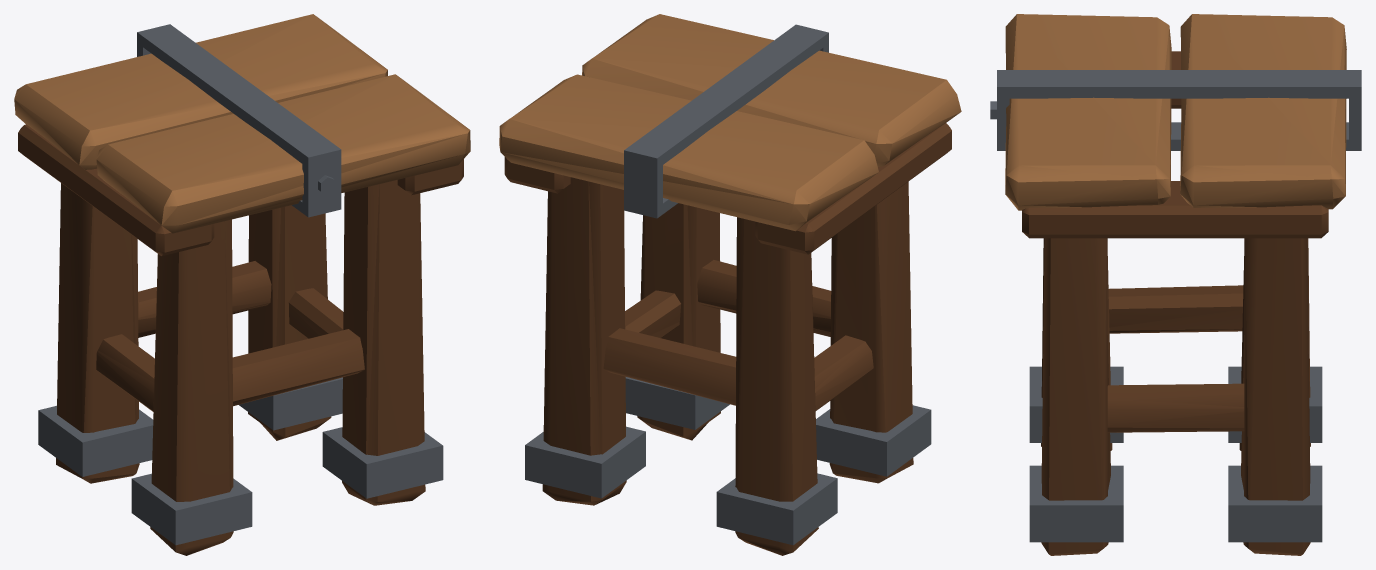
File: smith_stool.glb
3 renders of one model, left to right at view 1: azimuth 30°, elevation 25°; view 2: azimuth 150°, elevation 25°; view 3: azimuth 270°, elevation 25°, orthographic. The views are drawn at different scales.
Parts seen in each view (by area): view 1: seat_plank_1, seat_plank_0, frame_leg_front_right, frame_leg_front_left, frame_leg_back_left, strap_band, frame_leg_back_right, frame_long_rail_front, seat_batten_left, frame_foot_band_front_left, frame_foot_band_front_right, frame_foot_band_back_left (+5 smaller); view 2: seat_plank_0, seat_plank_1, frame_leg_back_right, frame_leg_back_left, frame_leg_front_left, strap_band, frame_leg_front_right, frame_long_rail_back, seat_batten_left, frame_foot_band_back_left, frame_foot_band_back_right, frame_foot_band_front_left (+5 smaller); view 3: seat_plank_0, seat_plank_1, frame_leg_front_right, frame_leg_back_right, strap_band, seat_batten_right, frame_side_rail_right, frame_side_rail_left, frame_foot_band_front_right, frame_foot_band_back_right, frame_foot_band_front_left, frame_foot_band_back_left (+2 smaller).
Boxes of the visible parts, x1,y1,x2,y2 form: seat_plank_1: [96, 74, 470, 233]; seat_plank_0: [14, 14, 387, 169]; frame_leg_front_right: [342, 180, 425, 505]; frame_leg_front_left: [150, 219, 233, 555]; frame_leg_back_left: [56, 183, 139, 483]; strap_band: [137, 24, 341, 217]; frame_leg_back_right: [248, 205, 331, 440]; frame_long_rail_front: [232, 329, 364, 406]; seat_batten_left: [18, 124, 214, 256]; frame_foot_band_front_left: [131, 473, 252, 545]; frame_foot_band_front_right: [322, 427, 443, 498]; frame_foot_band_back_left: [38, 405, 153, 476]; seat_plank_0: [499, 74, 878, 231]; seat_plank_1: [582, 14, 961, 166]; frame_leg_back_right: [542, 177, 626, 505]; frame_leg_back_left: [735, 217, 818, 555]; frame_leg_front_left: [829, 181, 913, 483]; strap_band: [624, 24, 828, 218]; frame_leg_front_right: [637, 203, 720, 440]; frame_long_rail_back: [603, 328, 736, 405]; seat_batten_left: [755, 123, 951, 254]; frame_foot_band_back_left: [716, 473, 837, 545]; frame_foot_band_back_right: [525, 426, 645, 498]; frame_foot_band_front_left: [816, 405, 931, 476]; seat_plank_0: [1180, 14, 1346, 209]; seat_plank_1: [1005, 14, 1171, 210]; frame_leg_front_right: [1041, 238, 1110, 555]; frame_leg_back_right: [1241, 238, 1310, 555]; strap_band: [990, 70, 1361, 150]; seat_batten_right: [1022, 181, 1328, 238]; frame_side_rail_right: [1107, 383, 1244, 432]; frame_side_rail_left: [1108, 285, 1243, 333]; frame_foot_band_front_right: [1029, 465, 1123, 542]; frame_foot_band_back_right: [1228, 465, 1322, 542]; frame_foot_band_front_left: [1029, 366, 1123, 442]; frame_foot_band_back_left: [1228, 366, 1322, 442].
Size of what is drawn, in the model's own units: 0.4246 by 0.512 by 0.4112.
